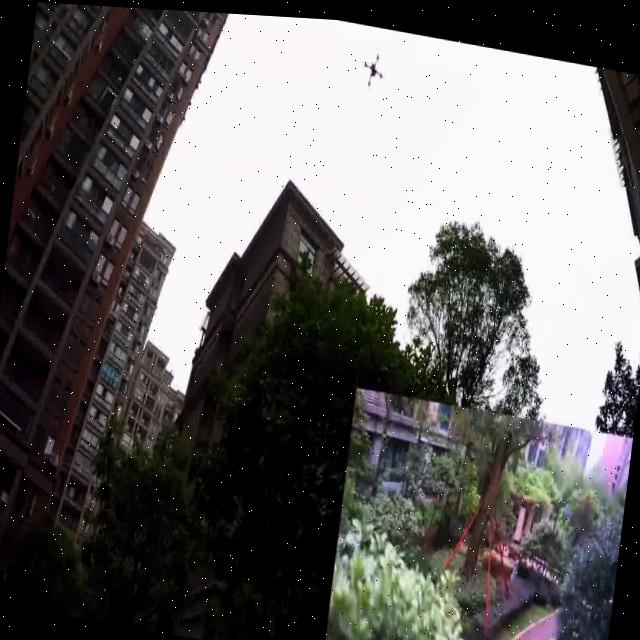drone: (340, 23, 388, 79)
